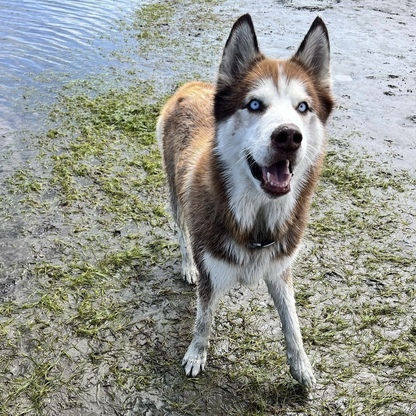husky: (150, 8, 340, 403)
